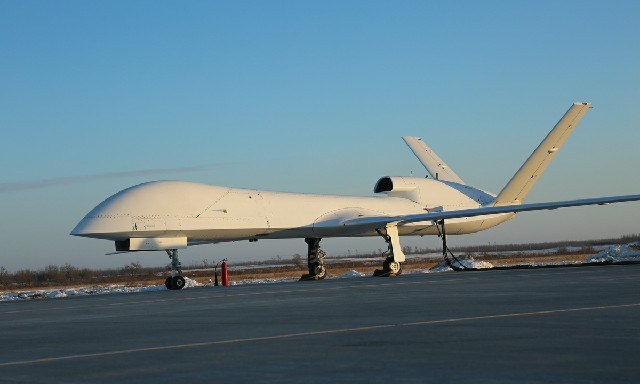maybay_khongnguoilai: (69, 120, 629, 283)
